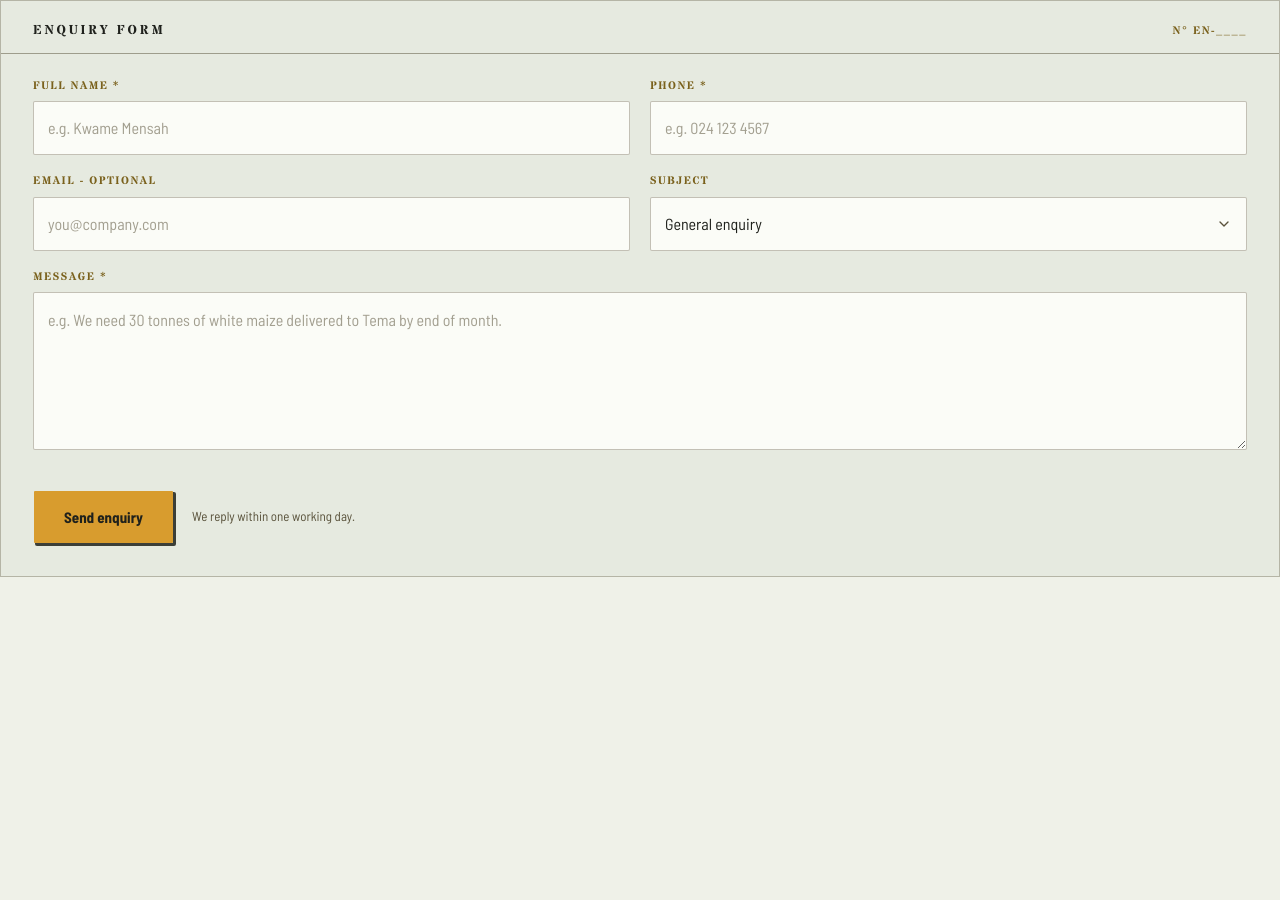
EnquiryForm › shows per-field validation and never submits an empty form
This screenshot has width=1280, height=900.
Click the button "Send enquiry": (104, 517) [33,490,174,544]
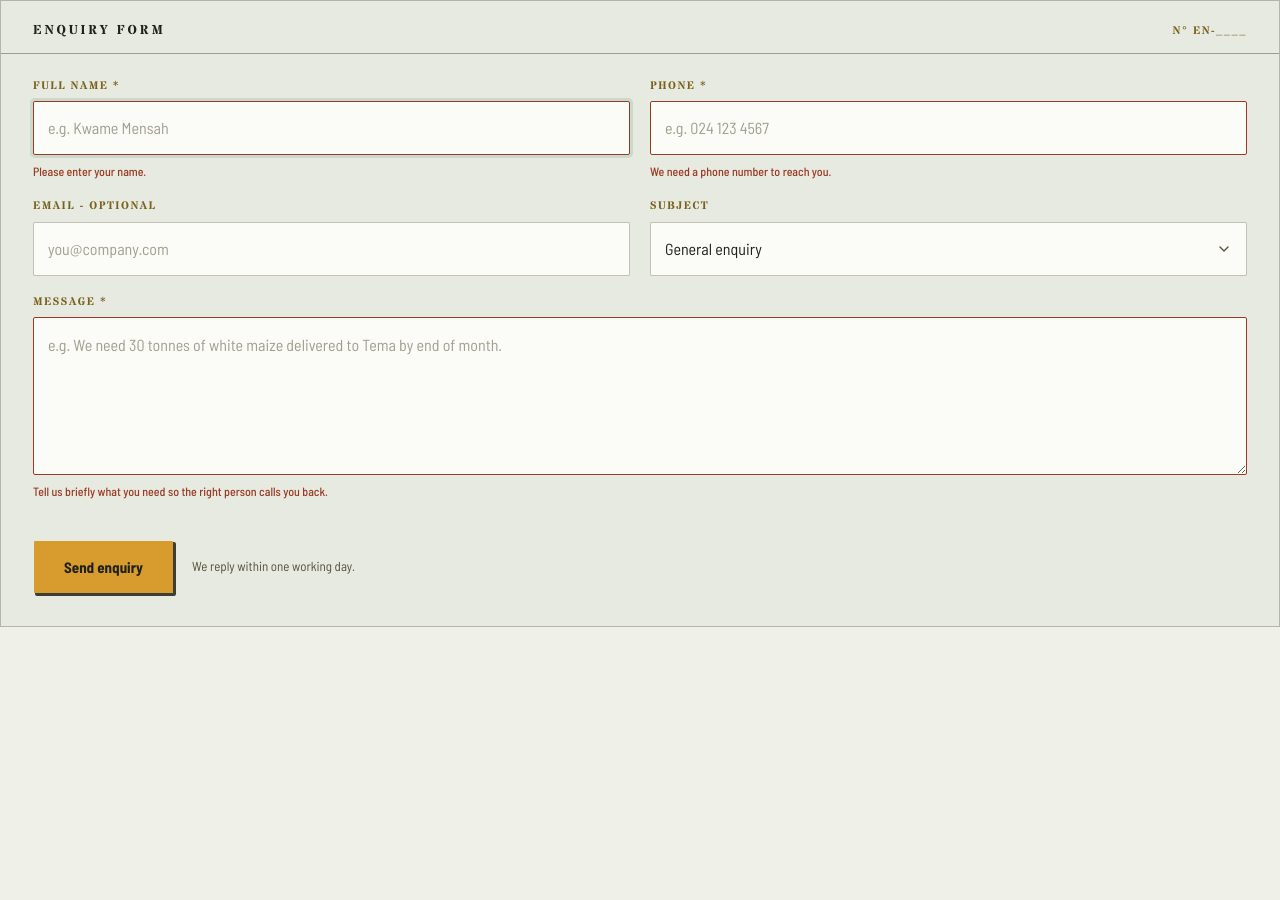
Check: the text "Please enter your name." is shown, box [33,164,146,178]
Check: the text "We need a phone number to reach you." is shown, box [650,164,831,178]
